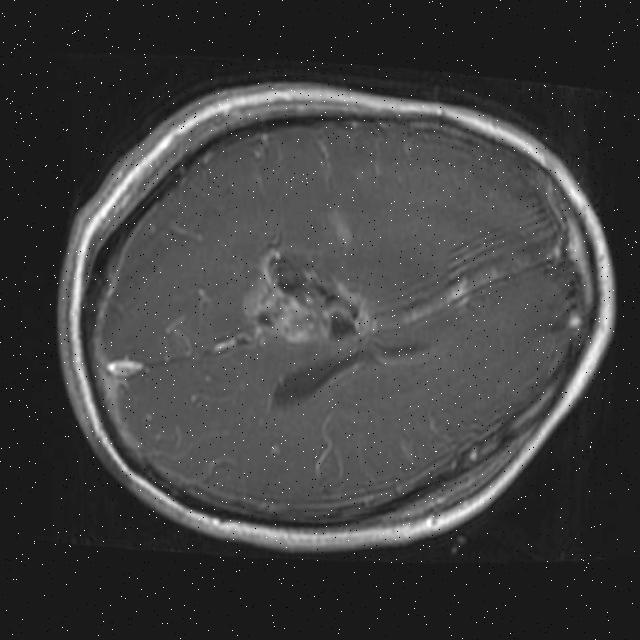Glioma: (235, 246, 382, 352)
